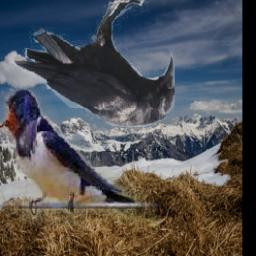Crow: (12, 0, 175, 127)
Swallow: (0, 88, 160, 230)
